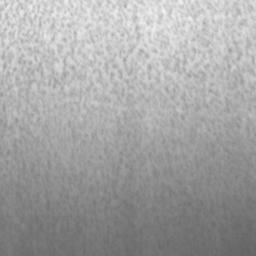Pitted surface: (48, 58, 67, 88), (173, 55, 187, 72), (187, 71, 206, 81), (165, 85, 178, 99), (26, 77, 36, 95), (29, 15, 42, 28), (18, 54, 32, 65), (138, 49, 149, 58), (135, 25, 141, 40)
